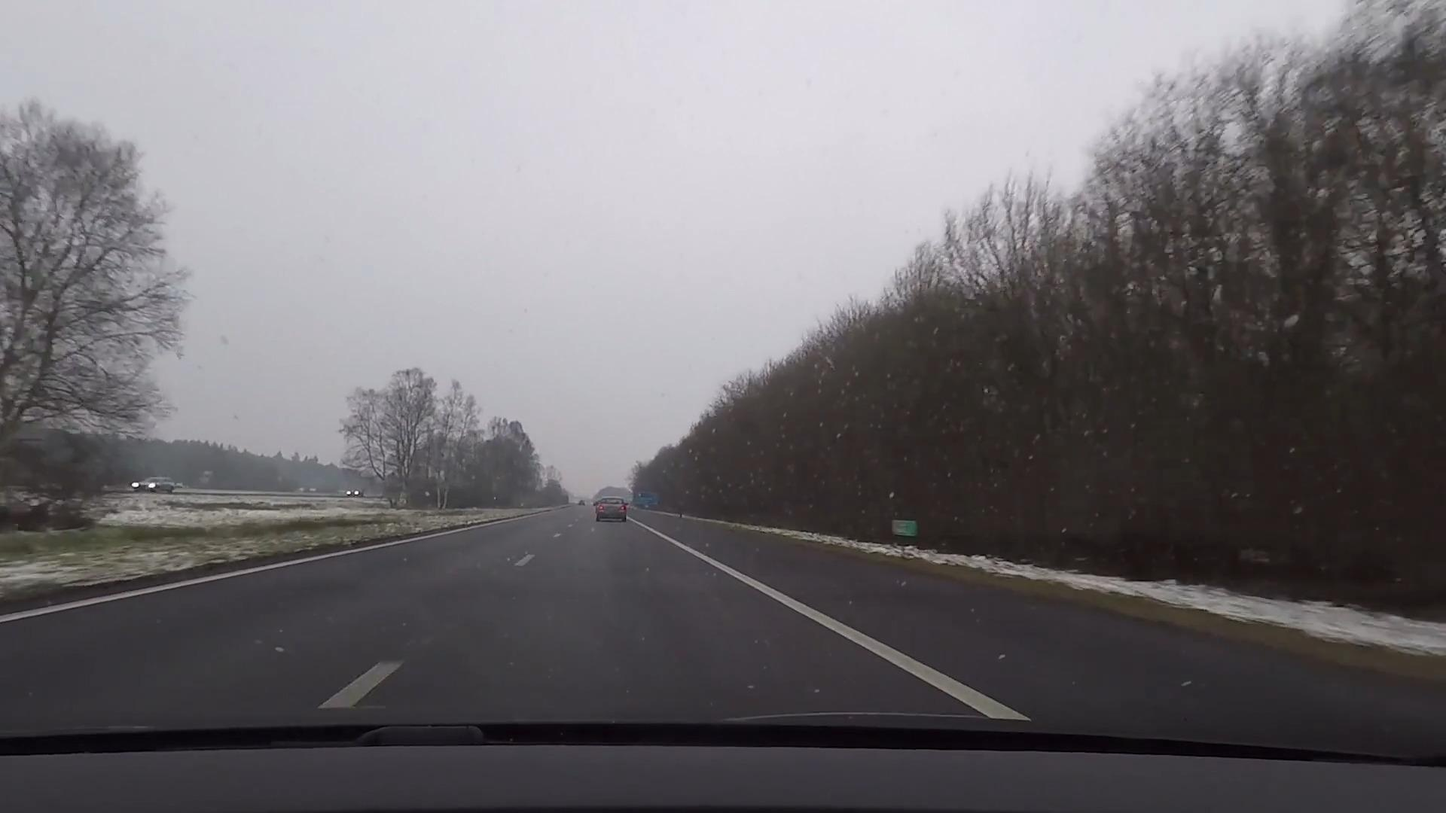Snow: (677, 516, 1446, 657), (0, 491, 548, 596)
dry: (0, 504, 1446, 738)
